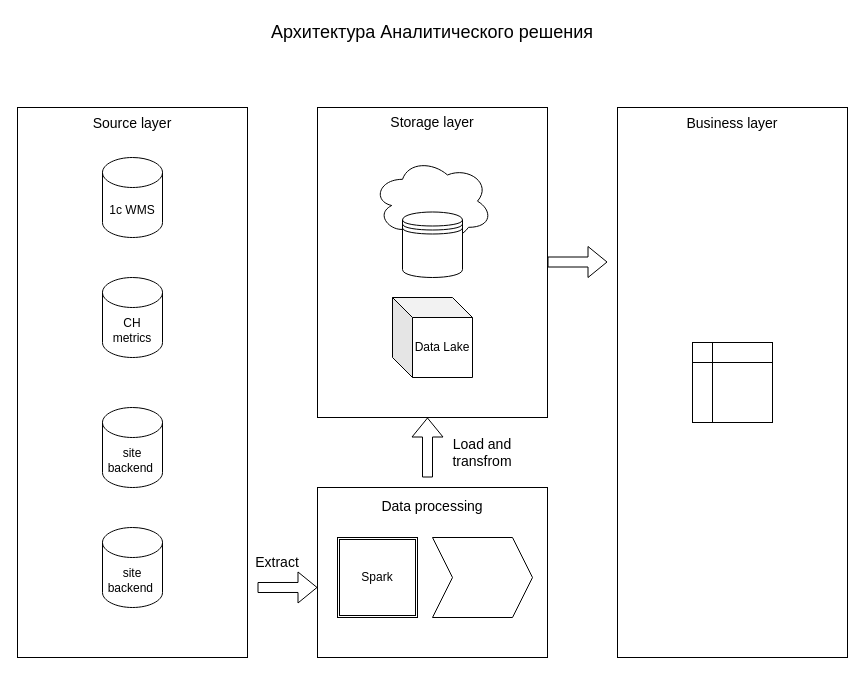
Some shapes in this 865 by 675 pixel diagram are drawn without their labels. The shapes that lost their labels are listed below. From the top down, each one's centre as x and y in pixels, then its label:
the point at 432,244: DWH Vertica
the point at 732,382: BI Solution
the point at 482,577: Airflow
